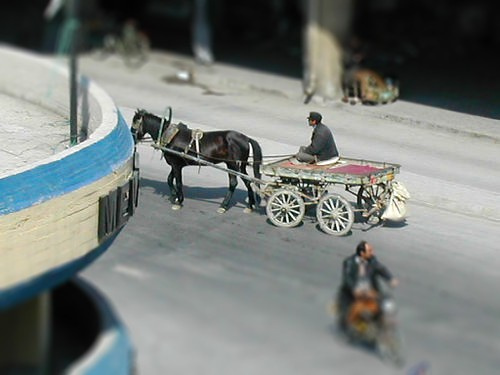horse: (130, 108, 264, 215)
